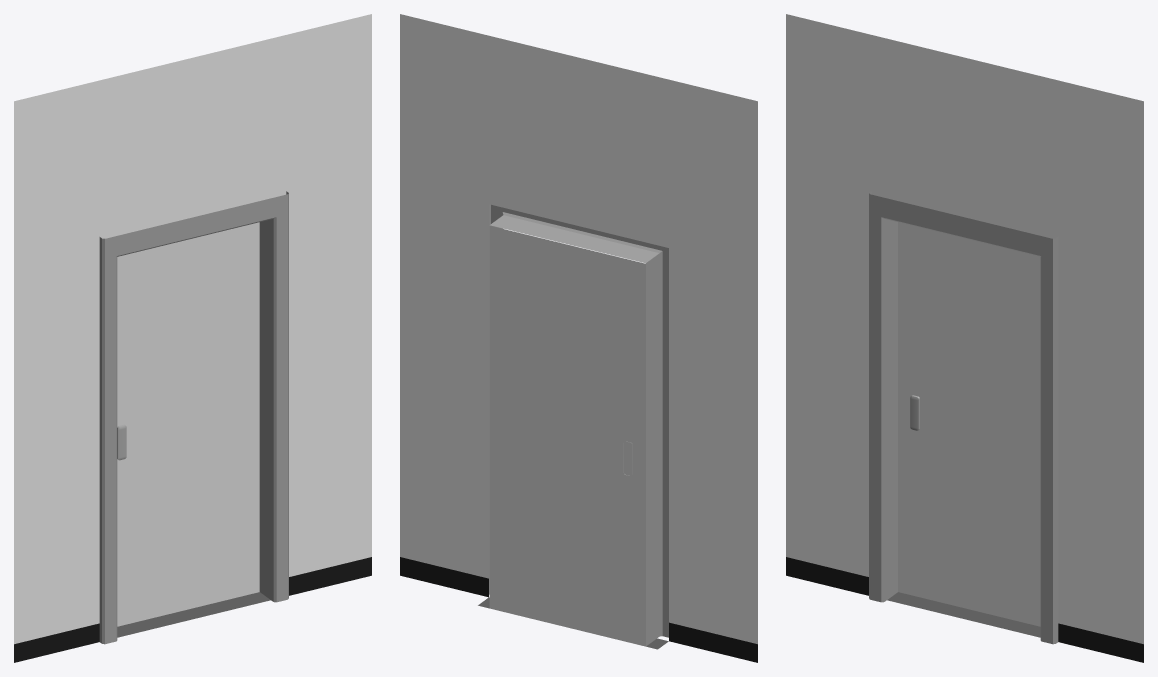
The model's file is door_closeForever_2_whit.fbx.
3 views of the same model, side by side, from view 1: azimuth 30°, elevation 25°; view 2: azimuth 150°, elevation 25°; view 3: azimuth 330°, elevation 25° (orthographic).
Parts seen in each view (by area): view 1: door_closeForever_2_wall_whit; view 2: door_closeForever_2_wall_whit; view 3: door_closeForever_2_wall_whit.
Boxes of the visible parts, x1,y1,x2,y2 form: door_closeForever_2_wall_whit: (14,14,371,662); door_closeForever_2_wall_whit: (400,14,757,662); door_closeForever_2_wall_whit: (786,14,1143,662).
Size of what is drawn, in the model's own units: 200 by 300 by 14.56.
